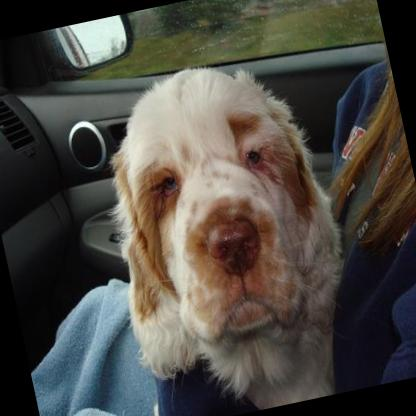clumber: (77, 39, 377, 416)
